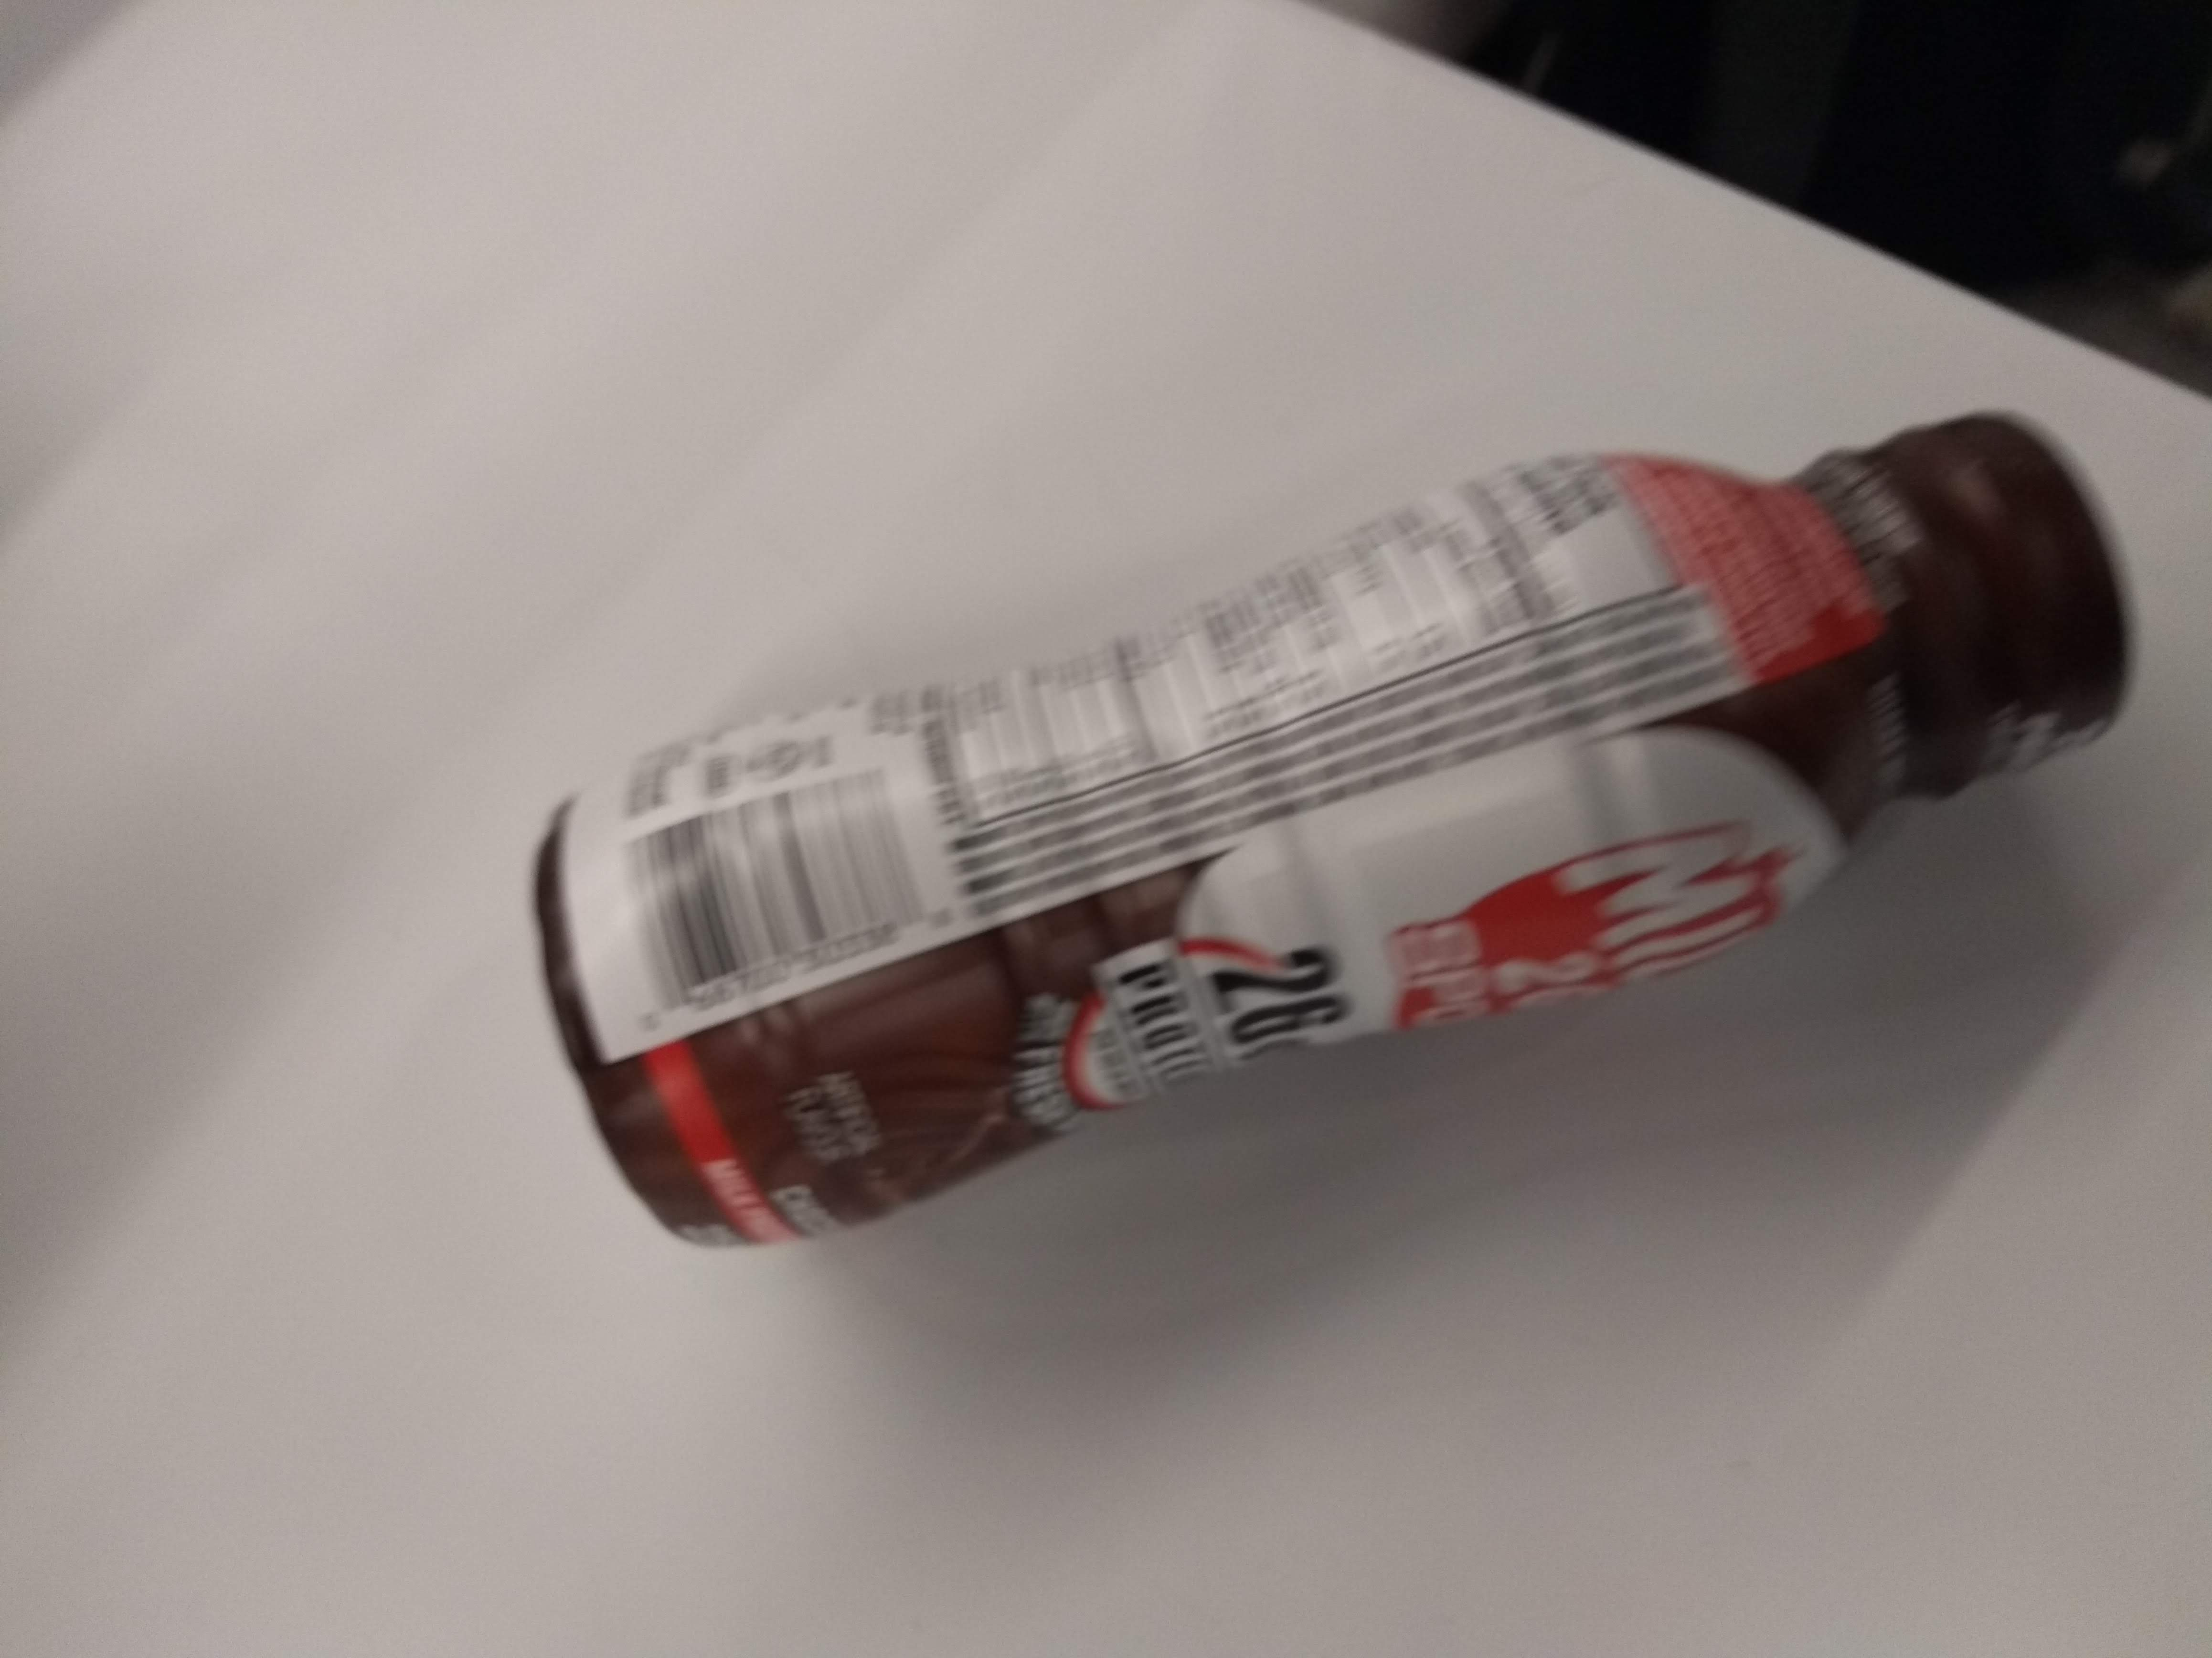chocolate_drink: (495, 390, 2165, 1284)
